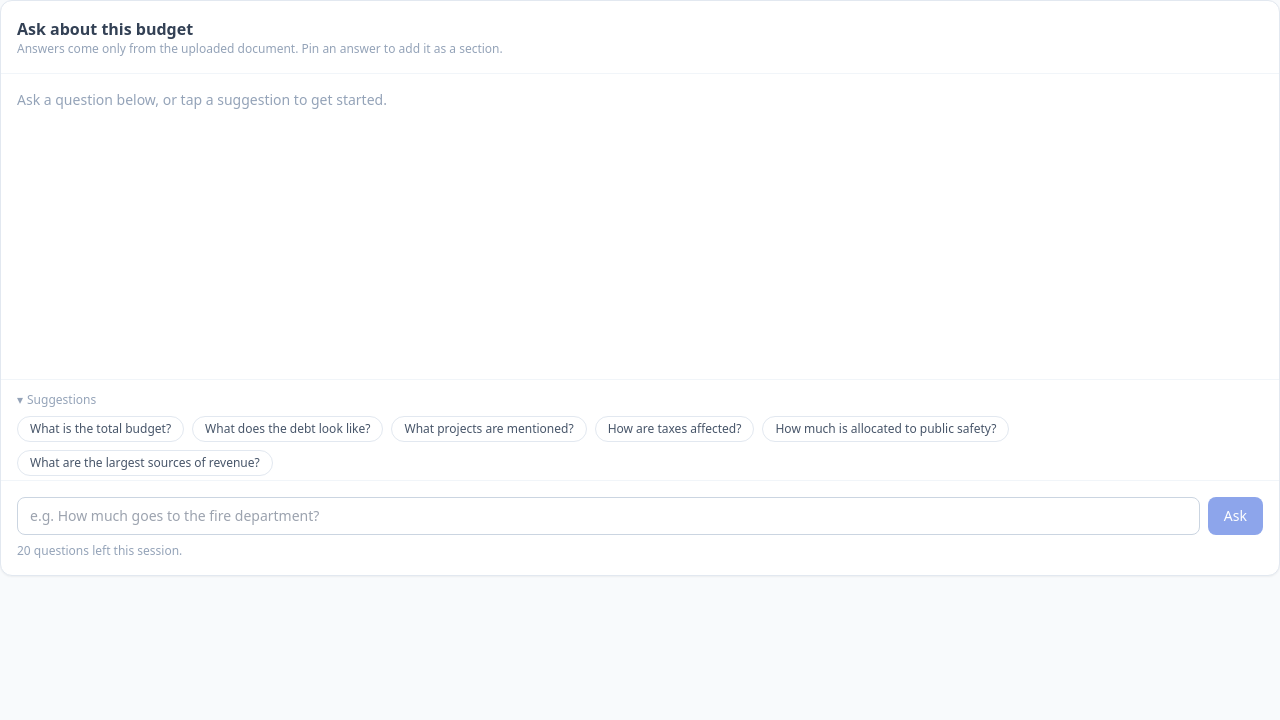
Scenario: ChatPanel › shows an error when the request fails
Type "hi" into the field named "Ask a question about the budget".
click(608, 516); type("hi")  # box [17,497,1200,535]
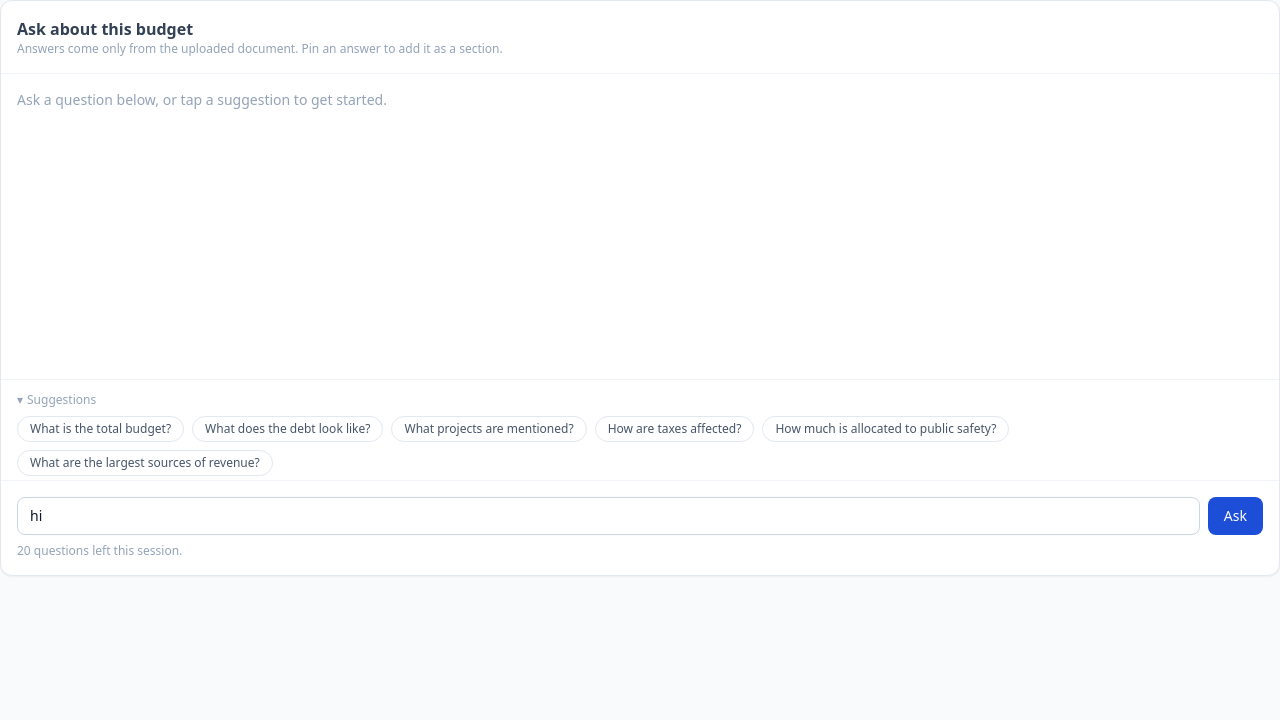
Click the button "Ask".
click(1235, 516)  # box [1208,497,1263,535]
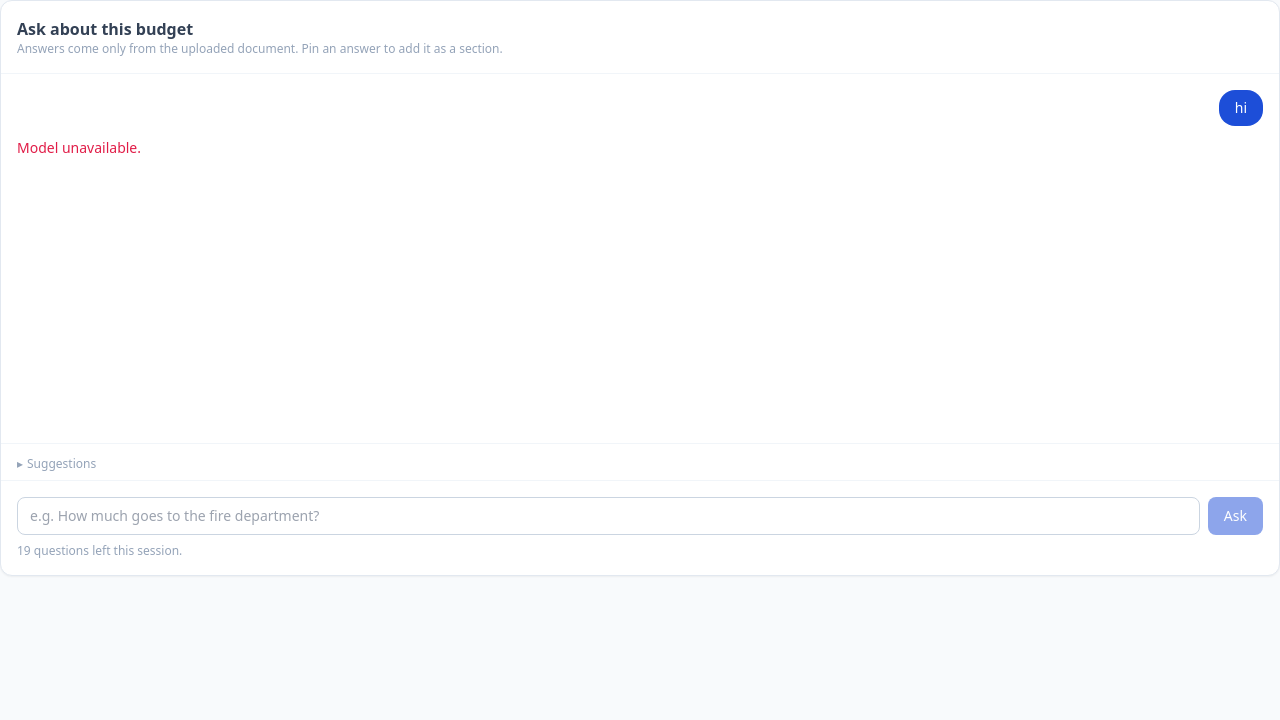
Result: the message reads "Model unavailable." at [17,138,141,157]
